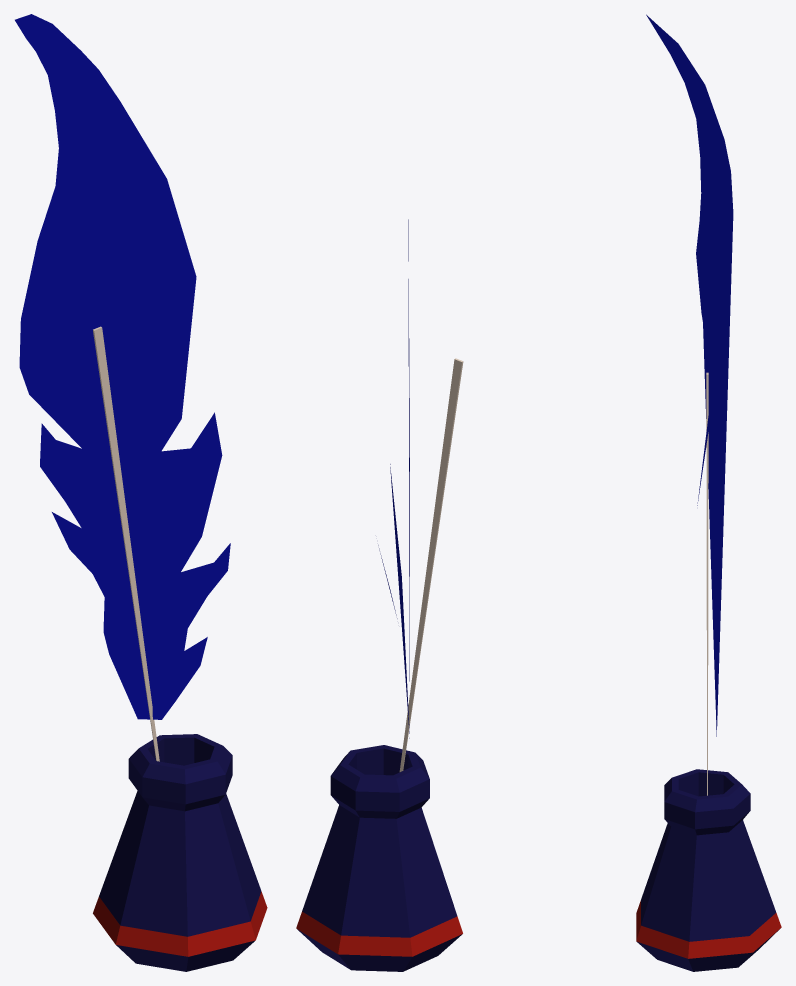
File: inkpen.fbx
3 renders of one model, left to right at view 1: azimuth 30°, elevation 25°; view 2: azimuth 150°, elevation 25°; view 3: azimuth 270°, elevation 25°, orthographic. The views are drawn at different scales.
Parts seen in each view (by area): view 1: Plane, Cylinder, Cube; view 2: Cylinder, Cube, Plane; view 3: Cylinder, Plane, Cube.
Part boxes in pixels (bbox=[...]): Plane: bbox=[15, 14, 230, 719]; Cylinder: bbox=[93, 734, 267, 971]; Cube: bbox=[93, 326, 159, 761]; Cylinder: bbox=[296, 745, 462, 971]; Cube: bbox=[399, 358, 463, 771]; Plane: bbox=[378, 219, 409, 738]; Cylinder: bbox=[636, 769, 781, 971]; Plane: bbox=[646, 14, 733, 736]; Cube: bbox=[706, 372, 708, 795].
Size of the model in its own units: 81.99 by 282 by 43.64.
